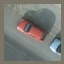car: (15, 17, 49, 43)
